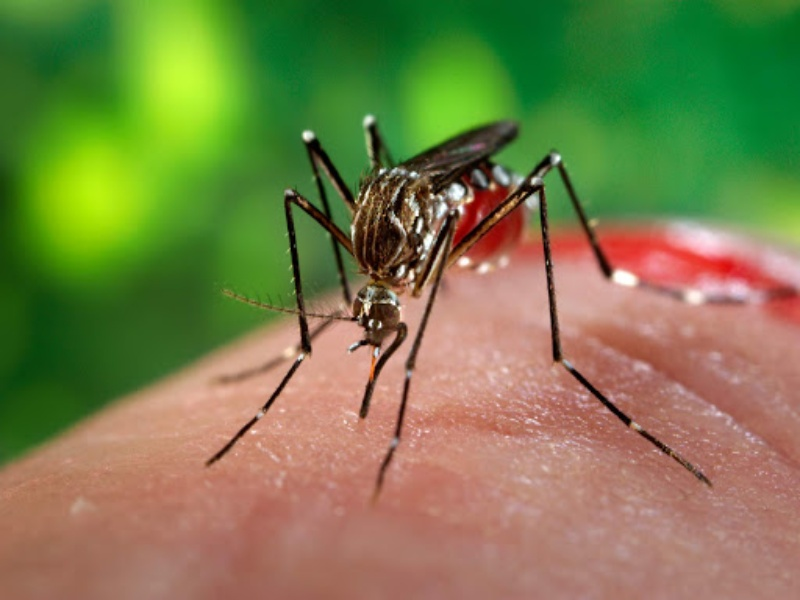dengue_mosquito: (280, 122, 556, 397)
